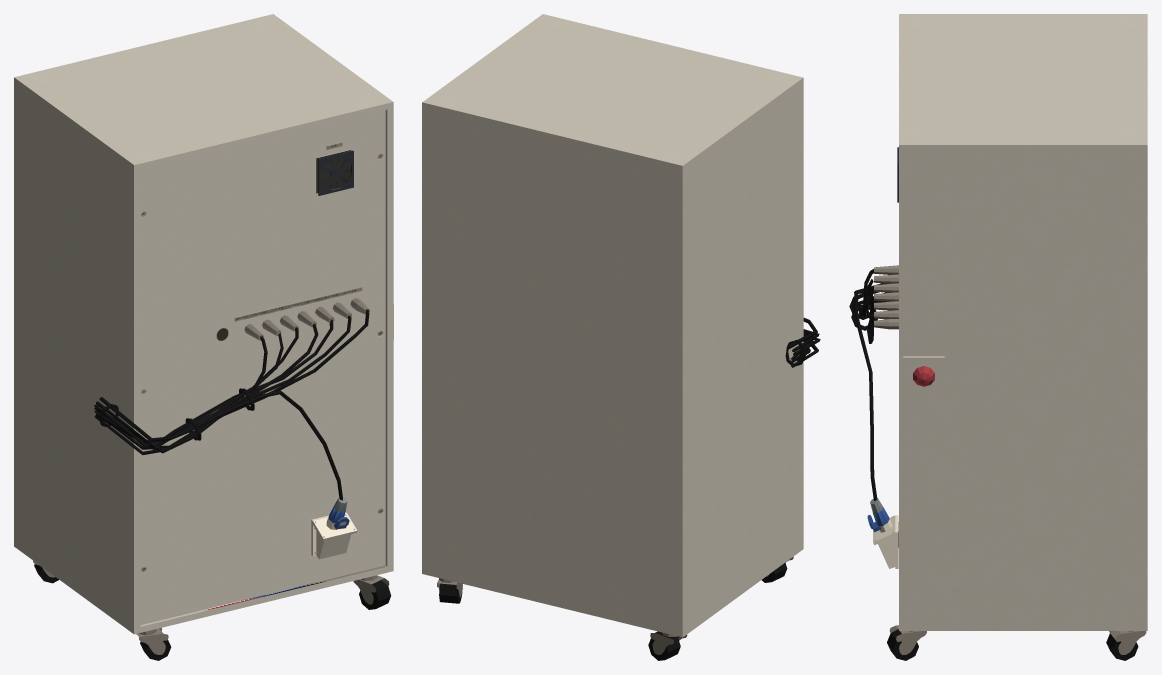
Rendered from peidian05.FBX.
3 renders of one model, left to right at view 1: azimuth 30°, elevation 25°; view 2: azimuth 150°, elevation 25°; view 3: azimuth 270°, elevation 25°, orthographic. The views are drawn at different scales.
Visible parts, largest first — view 1: YF_Model_peidian; view 2: YF_Model_peidian; view 3: YF_Model_peidian.
Boxes of the visible parts, left/top/right/bottom form: YF_Model_peidian: left=14, top=14, right=393, bottom=660; YF_Model_peidian: left=422, top=14, right=820, bottom=660; YF_Model_peidian: left=849, top=14, right=1147, bottom=660.
Size of the model in its own units: 98.94 by 166 by 86.
